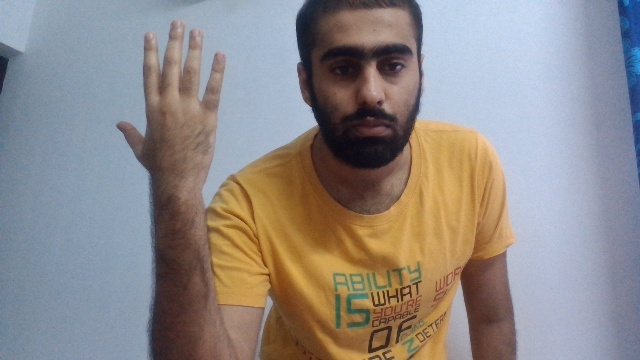paper: (115, 18, 225, 190)
